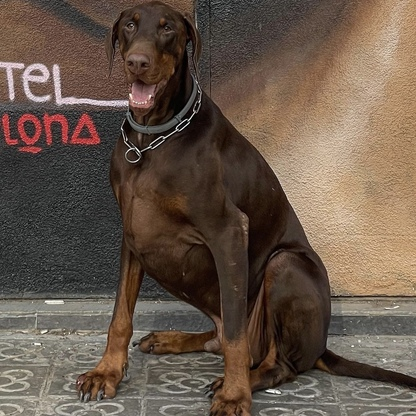doberman: (79, 4, 337, 414)
